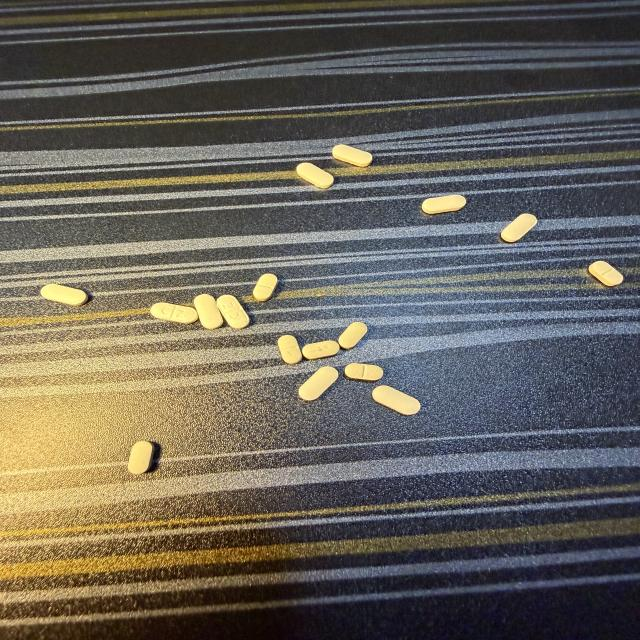pill: (373, 386, 420, 415), (299, 367, 338, 400), (217, 295, 249, 329), (194, 294, 223, 329), (501, 214, 537, 242), (41, 284, 88, 305), (151, 303, 198, 323), (297, 163, 333, 188), (333, 145, 372, 167), (589, 261, 623, 286), (422, 195, 466, 214), (128, 441, 153, 474), (338, 322, 367, 349), (344, 363, 384, 382), (302, 340, 339, 360), (278, 335, 302, 364), (253, 274, 277, 301)
